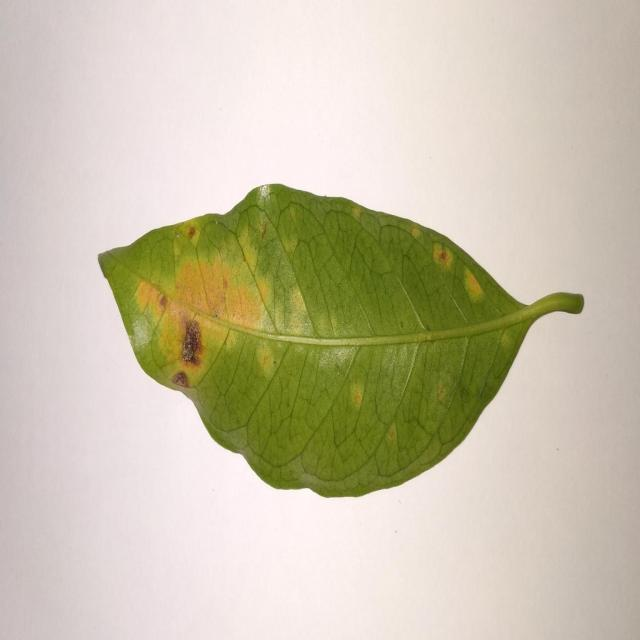rust: (174, 216, 275, 332), (128, 281, 171, 348), (172, 313, 205, 388), (256, 340, 281, 378), (432, 241, 454, 275), (463, 268, 484, 303), (348, 381, 365, 412)
